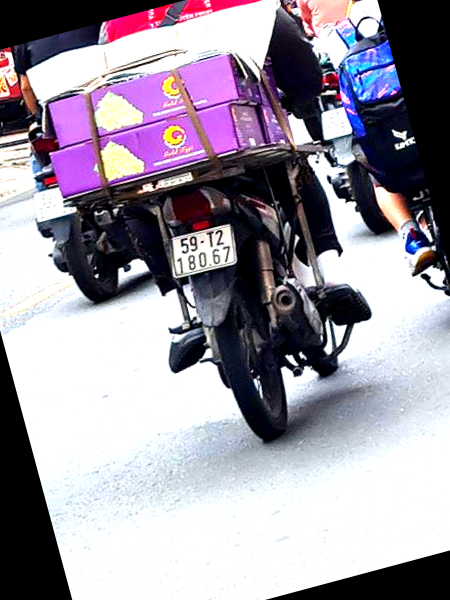number: (170, 228, 236, 277)
